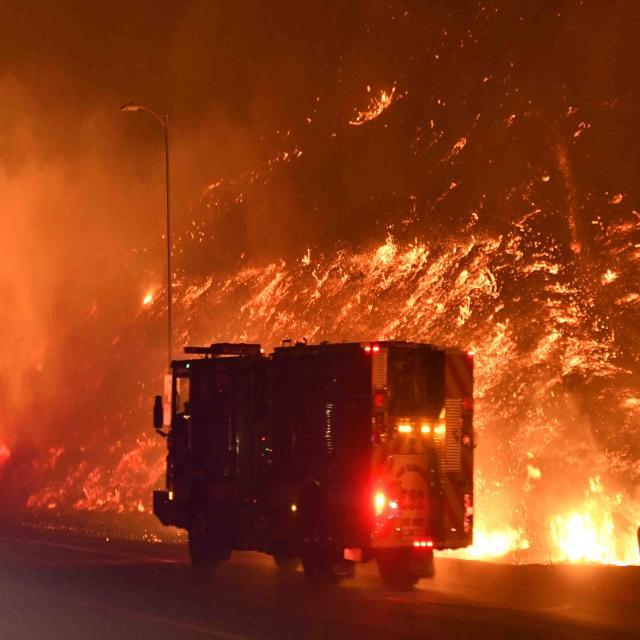Smoke: (0, 51, 329, 439)
